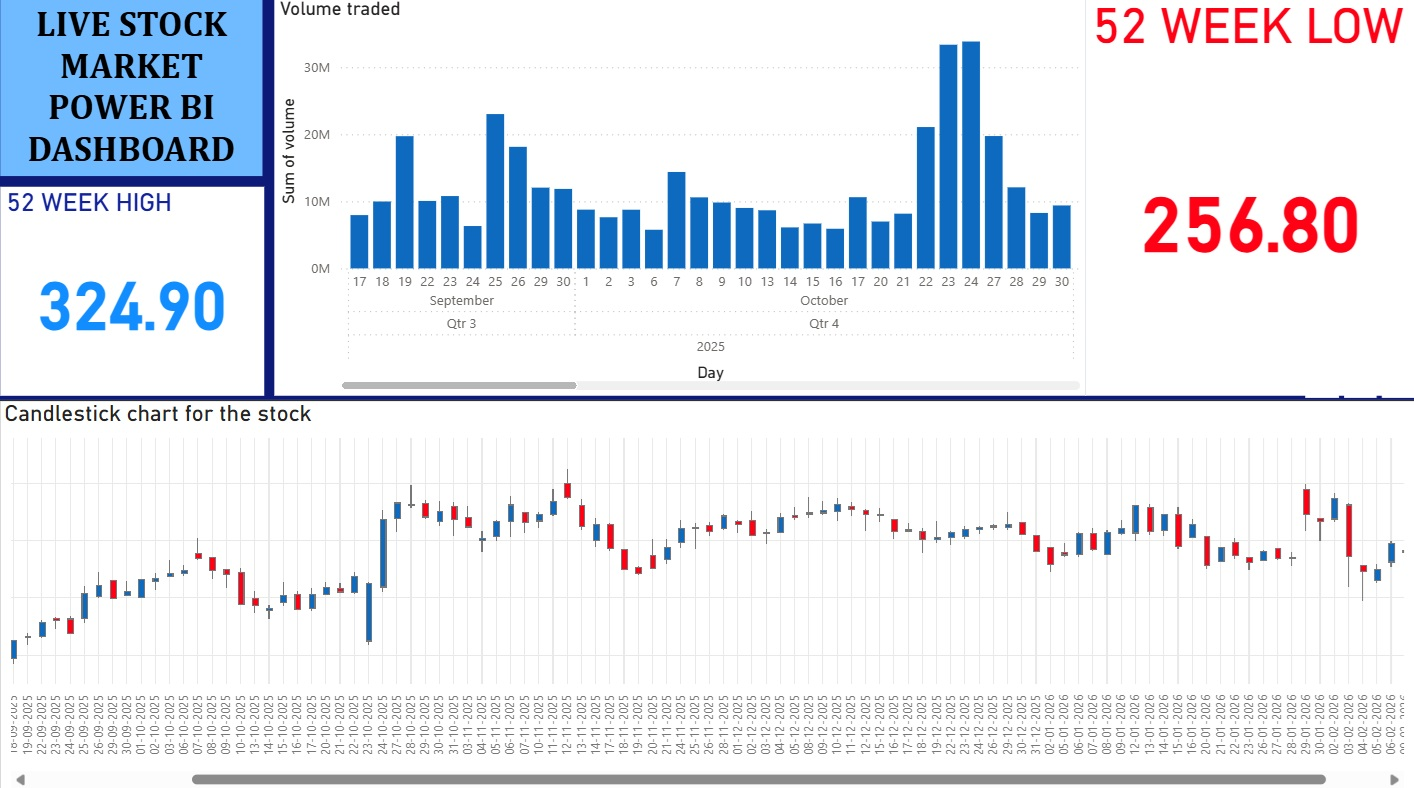

This screenshot's page, from the dashboard's own definition file:
{"tool":"powerbi","page":{"name":"Page 1","canvas":[1280,720],"ordinal":0},"visuals":[{"type":"clusteredColumnChart","title":"Volume traded","fields":{"Category":["stock_pipeline stock_prices.date.Variation.Date Hierarchy.Year","stock_pipeline stock_prices.date.Variation.Date Hierarchy.Quarter","stock_pipeline stock_prices.date.Variation.Date Hierarchy.Month","stock_pipeline stock_prices.date.Variation.Date Hierarchy.Day"],"Y":["Sum(stock_pipeline stock_prices.volume)"]},"box":[248.6,0,732.9,360],"z":0},{"type":"textbox","box":[1.4,0,237.1,161.4],"z":1000},{"type":"PBI_CV_886A053E_9DFD_4EA0_A47D_CCAEB89AF969","title":"Candlestick chart for the stock","fields":{"open":["Max(stock_pipeline stock_prices.open_price)"],"close":["Max(stock_pipeline stock_prices.close_price)"],"high":["Max(stock_pipeline stock_prices.high_price)"],"low":["Max(stock_pipeline stock_prices.low_price)"],"Category":["stock_pipeline stock_prices.date"]},"box":[0,364.3,1280,355.7],"z":1002},{"type":"kpi","title":"    52 WEEK HIGH  ","fields":{"Indicator":["Max(stock_pipeline stock_prices.52 Week High)"],"TrendLine":["stock_pipeline stock_prices.symbol"]},"box":[1.4,171.4,238.6,188.6],"z":1003},{"type":"kpi","title":"52 WEEK LOW","fields":{"Indicator":["stock_pipeline stock_prices.52 Week Low"],"TrendLine":["stock_pipeline stock_prices.symbol"]},"box":[981.4,0,298.6,360],"z":1004}]}

Visuals, with their boxes in screenshot pixels (x1, y1, x2, y2), scaled from the page's 1280x720 canvas onto the 1414x788 screenshot:
"Volume traded" clusteredColumnChart: detection(275, 0, 1084, 394)
textbox: detection(2, 0, 263, 177)
"Candlestick chart for the stock" PBI_CV_886A053E_9DFD_4EA0_A47D_CCAEB89AF969: detection(0, 399, 1413, 787)
"    52 WEEK HIGH  " kpi: detection(2, 188, 265, 394)
"52 WEEK LOW" kpi: detection(1084, 0, 1413, 394)
